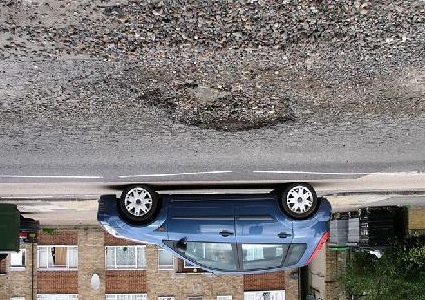pothole: (136, 79, 298, 134)
